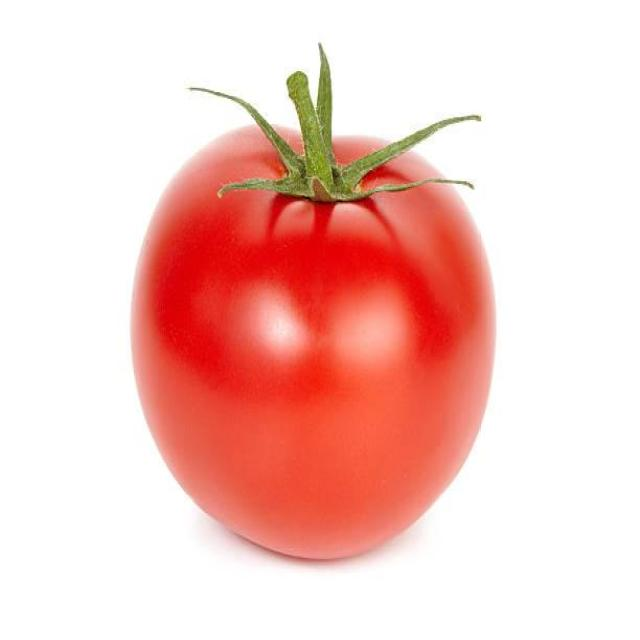Tomato: (131, 125, 495, 558)
